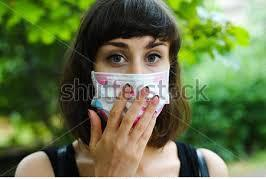OK: (95, 42, 174, 124)
